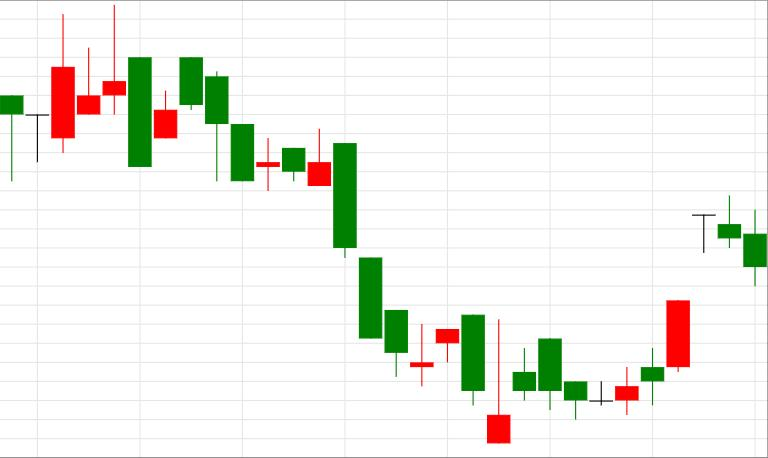inverse_hammer_rise: (334, 143, 510, 443)
